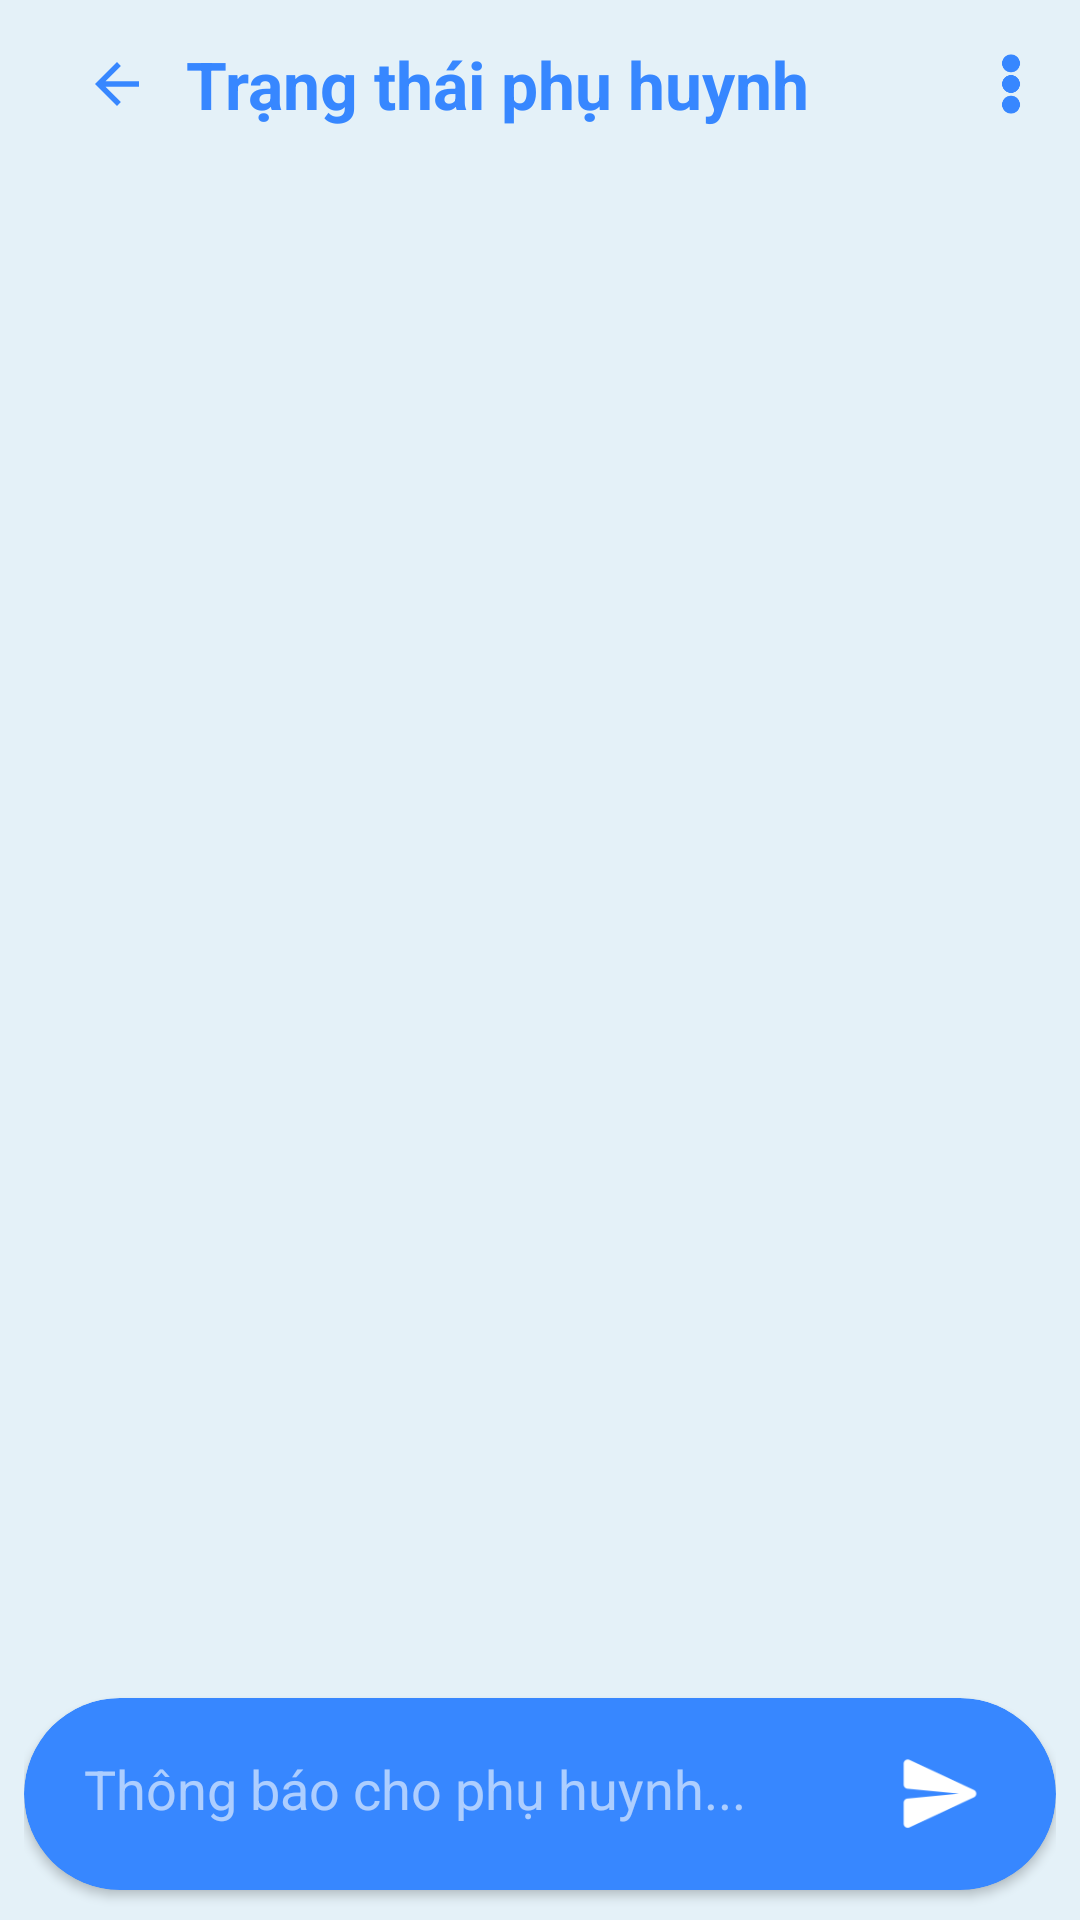

Point at icon controls on the screen. Image size 1080px×1920px, points as point (x, y).
arrow back: point (117, 84)
send: point (940, 1793)
